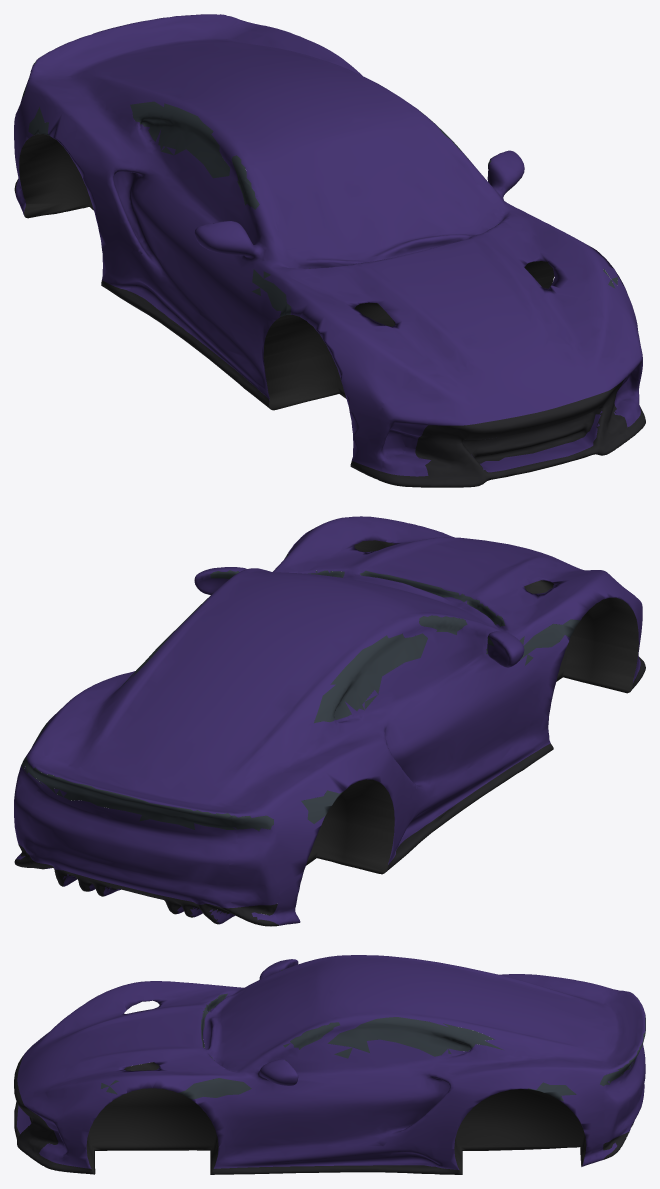
File: stinger.glb
The picture shows the model from 3 angles, top to bottom: view 1: azimuth 30°, elevation 25°; view 2: azimuth 150°, elevation 25°; view 3: azimuth 270°, elevation 25°; orthographic projection. The views are drawn at different scales.
Parts seen in each view (by area): view 1: body; view 2: body; view 3: body.
Boxes of the visible parts, x1=… form: body: x1=14, y1=14, x2=645, y2=487; body: x1=14, y1=516, x2=645, y2=926; body: x1=14, y1=955, x2=645, y2=1174.
Bounding box in the file's own units: 1.94 × 1.13 × 4.45.
